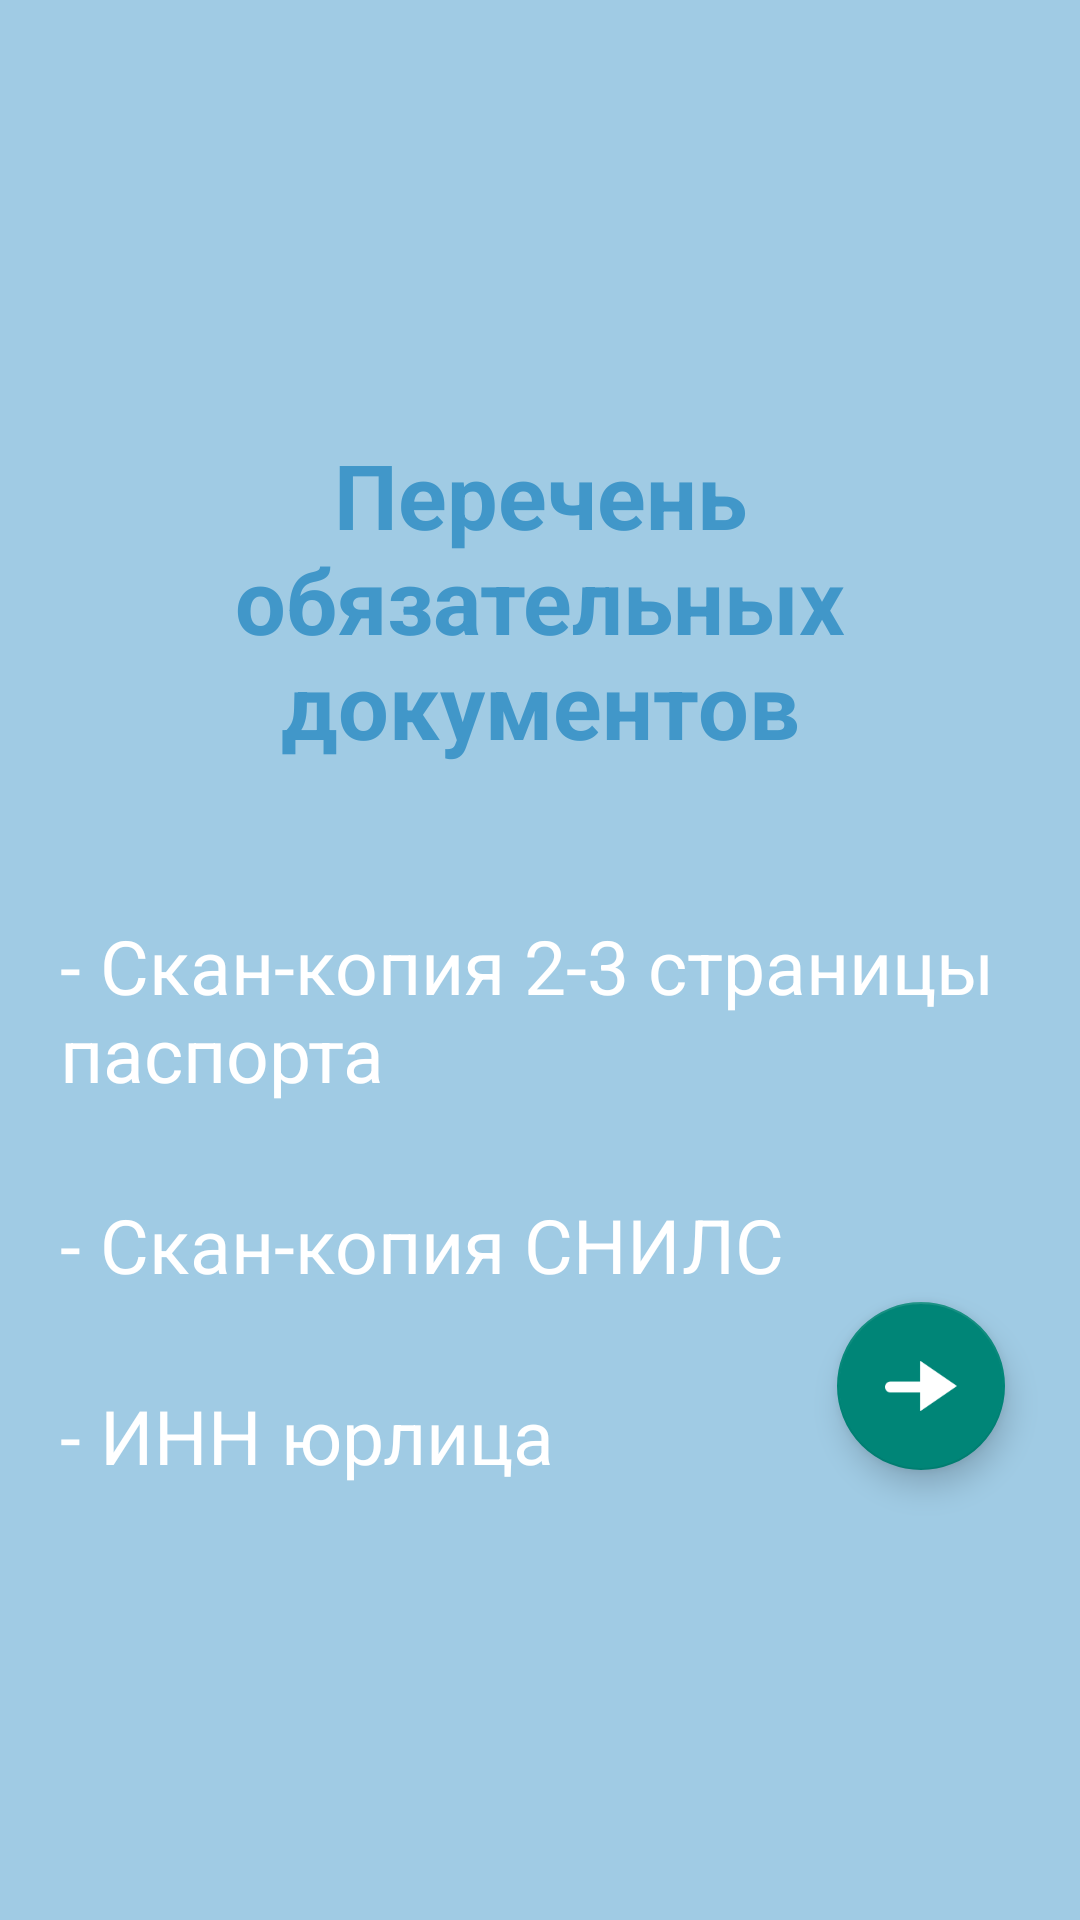

Point at icon controls on the screen. Image size 1080*1920, points as (x,y).
next: (921,1386)
